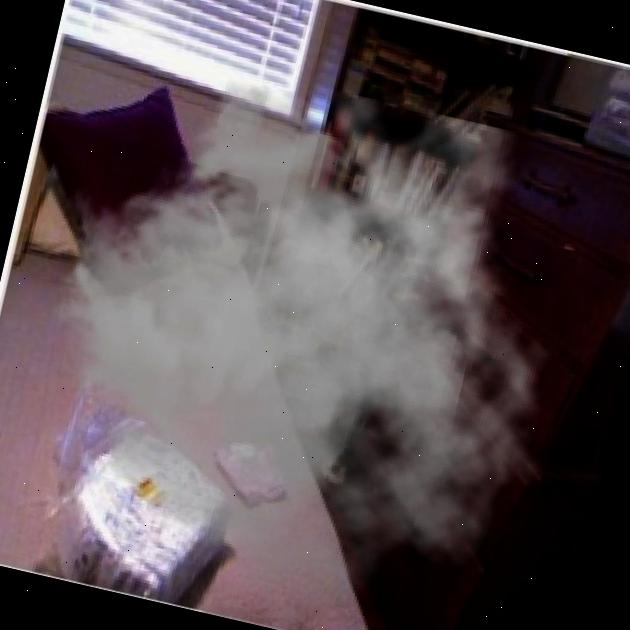smoke: (0, 36, 614, 630)
